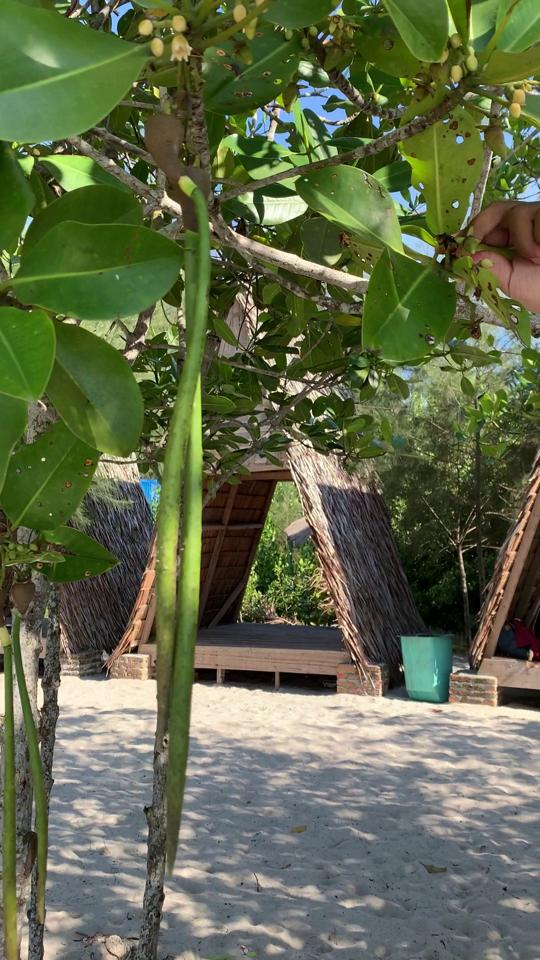setengah matang: (137, 100, 215, 886)
